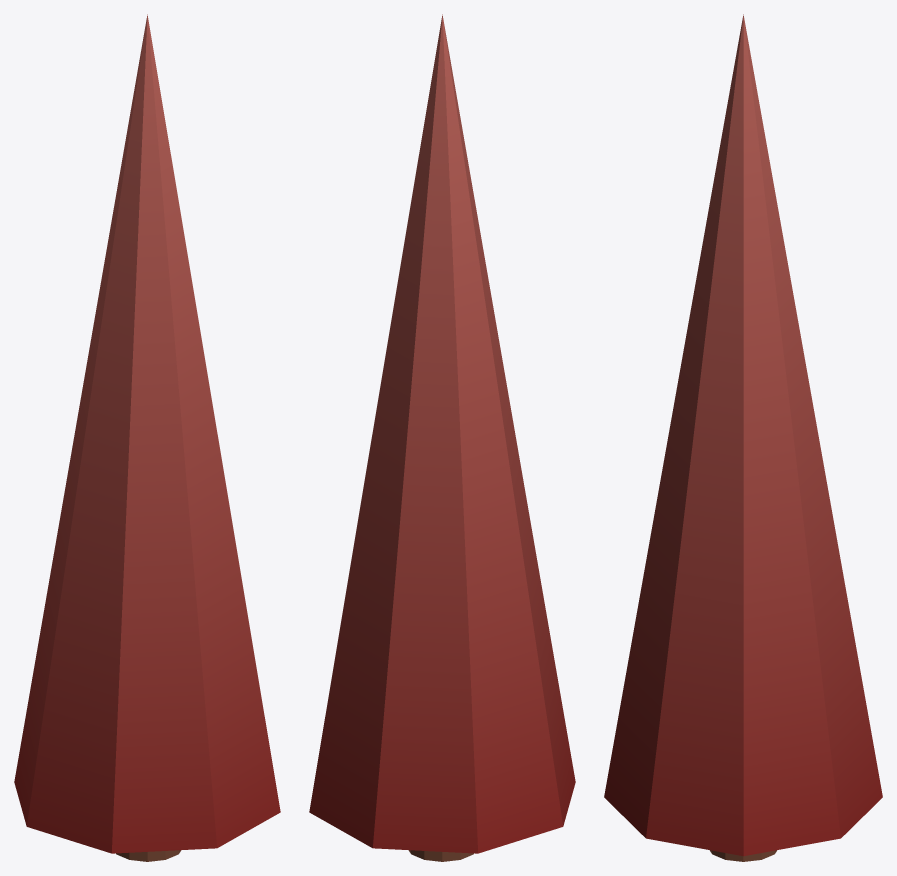
File: Tree_24_gradient_red_vc.fbx
3 views of the same model, side by side, from view 1: azimuth 30°, elevation 25°; view 2: azimuth 150°, elevation 25°; view 3: azimuth 270°, elevation 25° (orthographic).
Parts seen in each view (by area): view 1: Tree_24_gradient_red_vc; view 2: Tree_24_gradient_red_vc; view 3: Tree_24_gradient_red_vc.
Boxes of the visible parts, x1,y1,x2,y2 form: Tree_24_gradient_red_vc: (14, 14, 280, 861); Tree_24_gradient_red_vc: (309, 14, 575, 861); Tree_24_gradient_red_vc: (604, 14, 882, 861).
Bounding box in the file's own units: 85.35 × 281 × 85.35.
